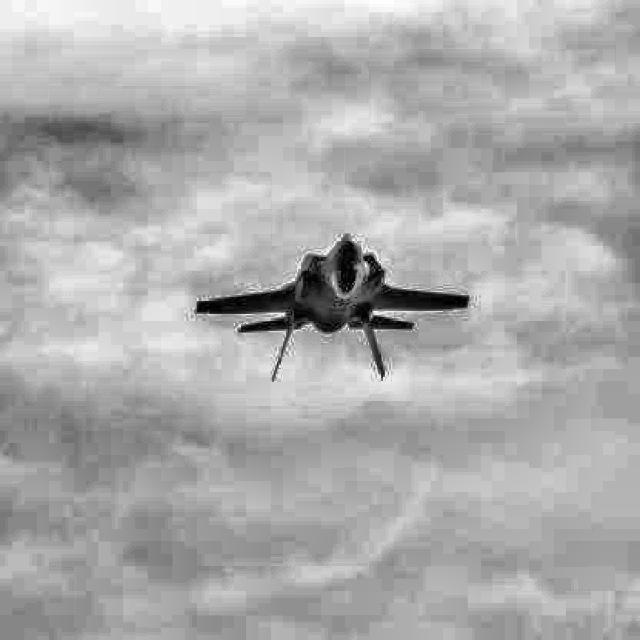F35: (196, 233, 470, 382)
